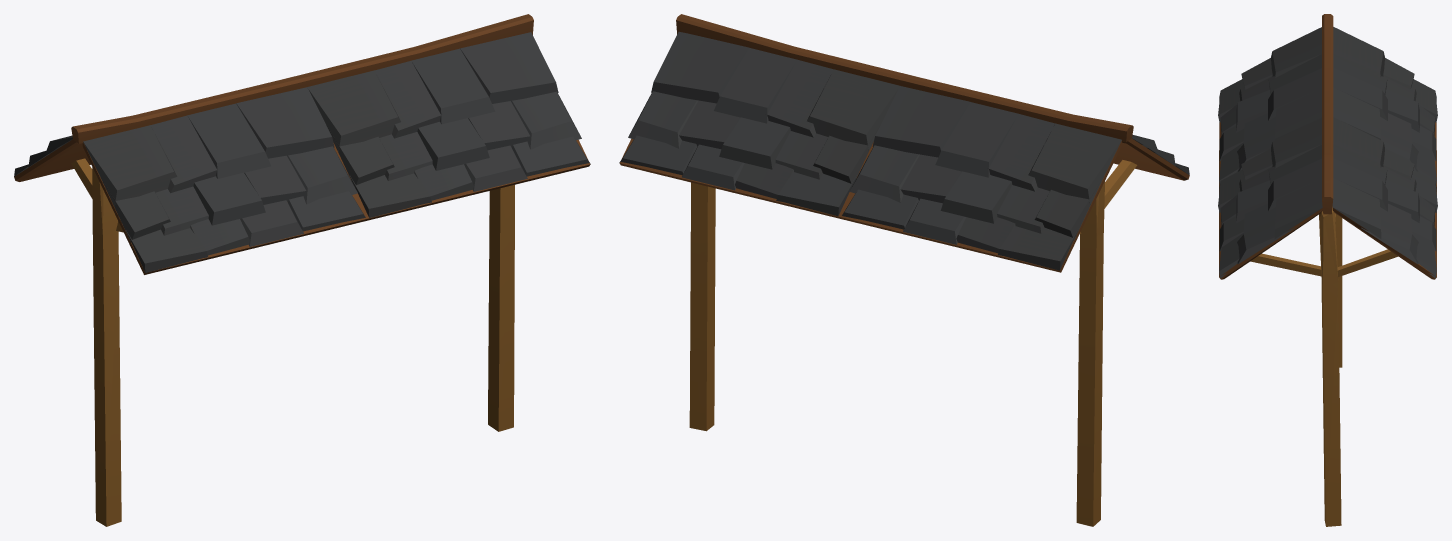
The picture shows the model from 3 angles, left to right: view 1: azimuth 30°, elevation 25°; view 2: azimuth 150°, elevation 25°; view 3: azimuth 270°, elevation 25°; orthographic projection. The views are drawn at different scales.
Parts seen in each view (by area): view 1: Well_RoofWood.001, Well_RoofWood.002; view 2: Well_RoofWood.001, Well_RoofWood.002; view 3: Well_RoofWood.001, Well_RoofWood.002.
Part boxes in pixels (x1,y1,x2,y2): Well_RoofWood.001: [14, 14, 590, 274]; Well_RoofWood.002: [71, 158, 514, 526]; Well_RoofWood.001: [619, 14, 1189, 272]; Well_RoofWood.002: [689, 160, 1137, 526]; Well_RoofWood.001: [1218, 14, 1437, 279]; Well_RoofWood.002: [1250, 207, 1398, 526].
Size of the model in its own units: 179 by 153 by 90.28.
